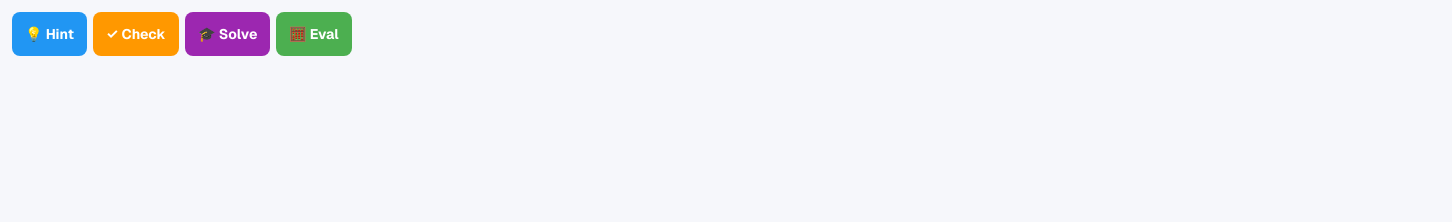
MathTutorTool: a cloud refusal › a follow-up refused after a first answer also says a subscription is needed
Click the button with test id "math-tutor-hint": (49, 34) [12, 12, 87, 56]
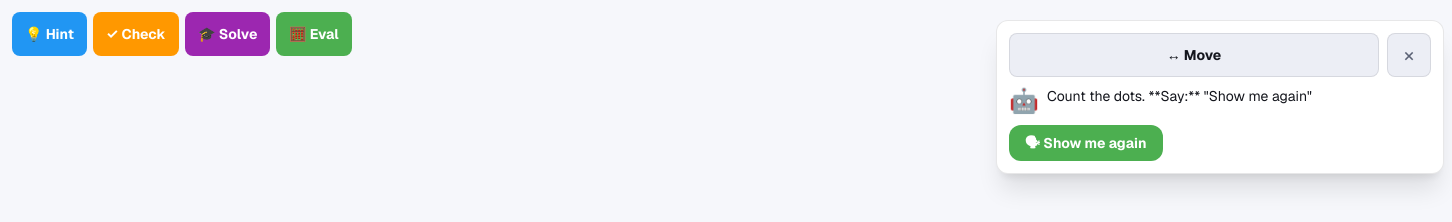
Click the button "🗣 Show me again": (1086, 143) [1009, 125, 1162, 161]
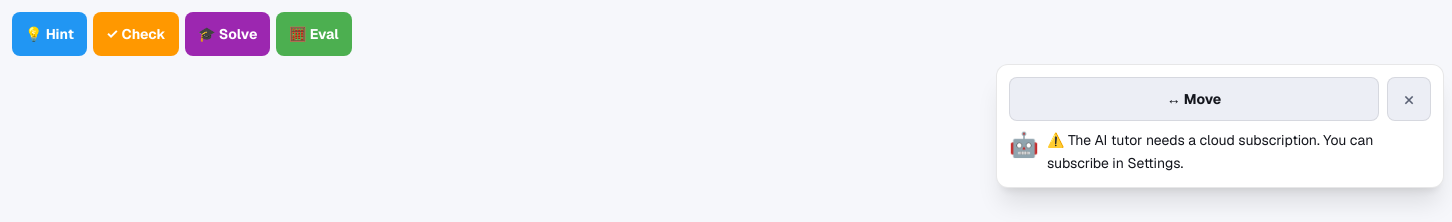
Expected: the text "needs a cloud subscription" is shown, [1047, 131, 1373, 172]
